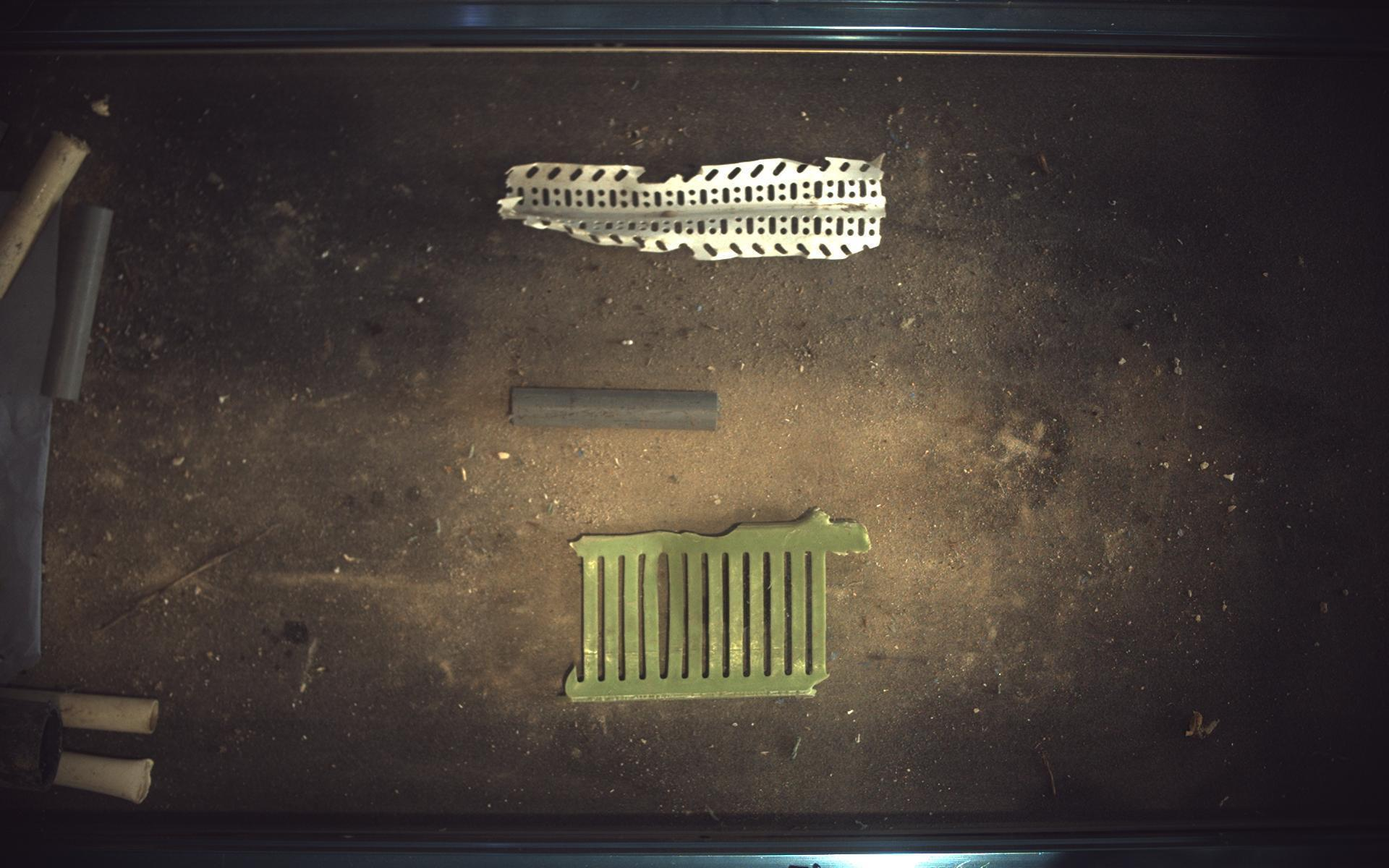pipes: (511, 387, 721, 430)
plastic: (566, 509, 872, 702), (498, 154, 888, 260)
